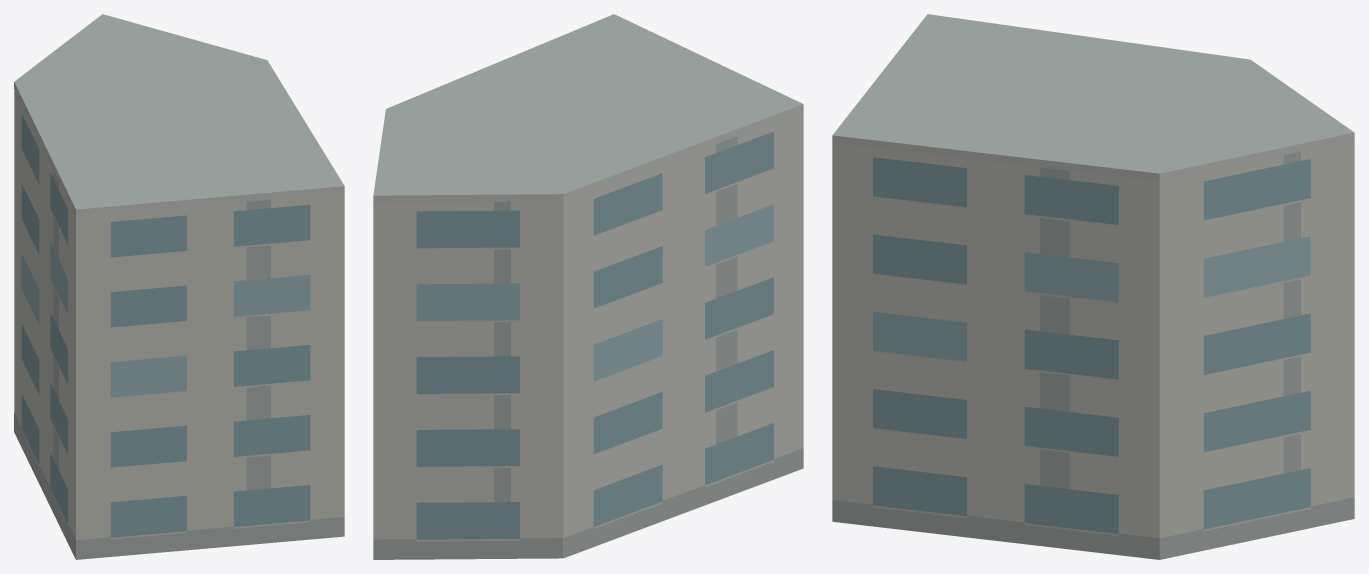
File: survey-upis-32819847.glb
3 renders of one model, left to right at view 1: azimuth 30°, elevation 25°; view 2: azimuth 150°, elevation 25°; view 3: azimuth 270°, elevation 25°, orthographic. The views are drawn at different scales.
Parts seen in each view (by area): view 1: survey-upis-32819847.tmp; view 2: survey-upis-32819847.tmp; view 3: survey-upis-32819847.tmp.
Part boxes in pixels (x1,y1,x2,y2): survey-upis-32819847.tmp: [14, 14, 344, 559]; survey-upis-32819847.tmp: [373, 14, 803, 559]; survey-upis-32819847.tmp: [832, 14, 1354, 559].
Size of the model in its own units: 10.64 by 12 by 14.72.
